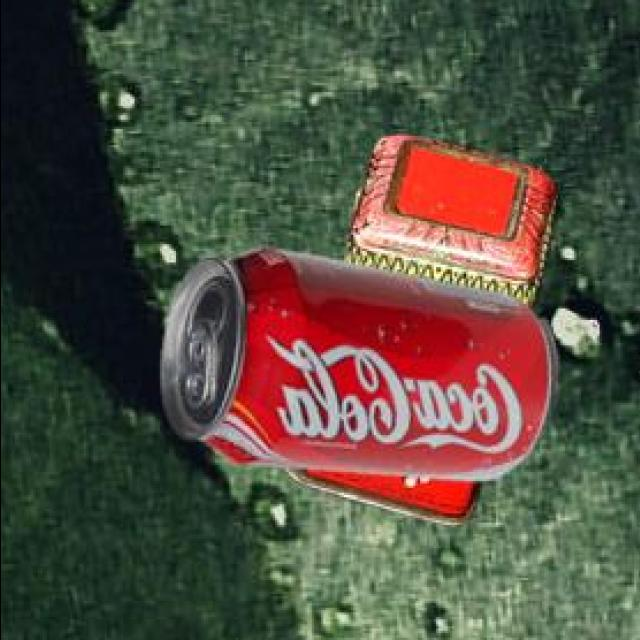logam: (289, 139, 558, 528), (165, 252, 561, 485)
